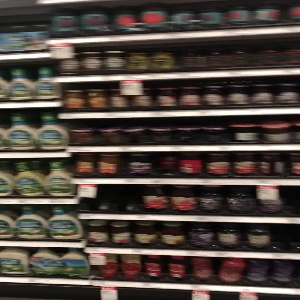void: (176, 33, 300, 73), (76, 183, 143, 216), (269, 224, 300, 252)
